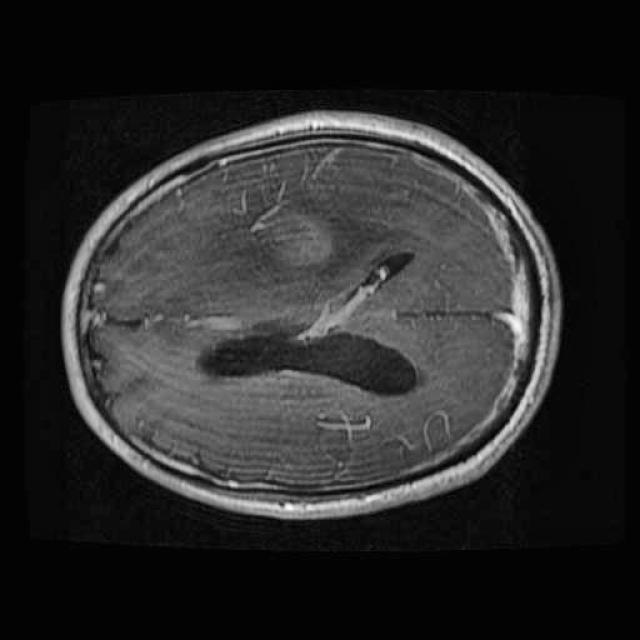Tumor: (244, 194, 344, 288)
